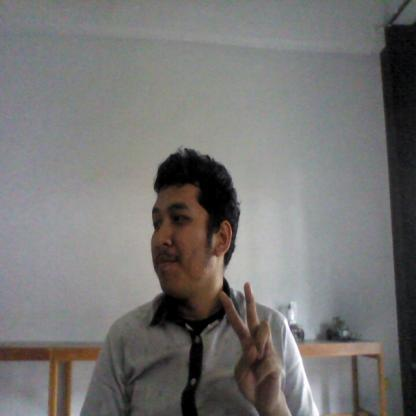V: (218, 280, 283, 413)
